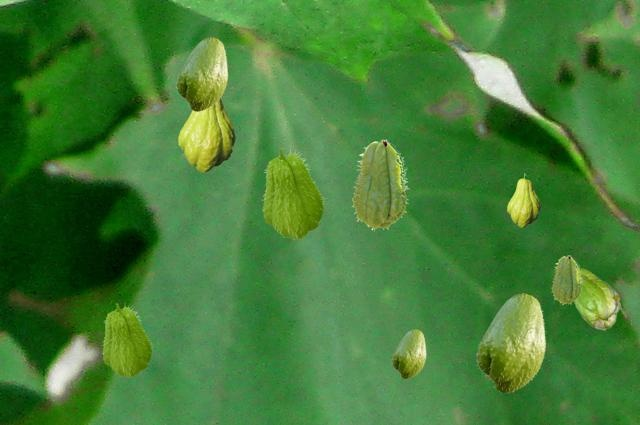sayote: (475, 293, 545, 393), (261, 147, 324, 238), (351, 139, 408, 230), (178, 99, 234, 171), (175, 37, 227, 111), (101, 302, 152, 376), (573, 268, 625, 329), (507, 173, 539, 226), (391, 329, 425, 378), (551, 255, 581, 304)
